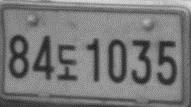0: (107, 38, 127, 84)
1: (84, 35, 101, 83)
3: (130, 38, 151, 86)
4: (32, 34, 55, 81)
5: (155, 39, 178, 86)
8: (8, 34, 29, 79)
도: (55, 43, 78, 81)
